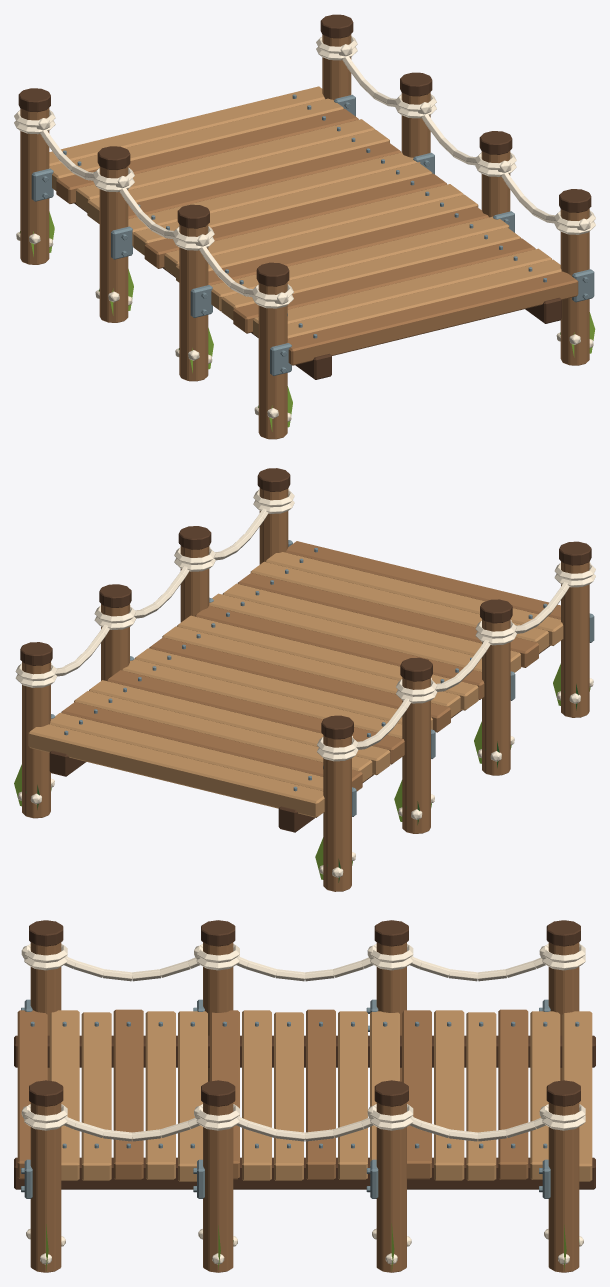
The model's file is pier.glb.
The picture shows the model from 3 angles, top to bottom: view 1: azimuth 30°, elevation 25°; view 2: azimuth 150°, elevation 25°; view 3: azimuth 270°, elevation 25°; orthographic projection. The views are drawn at different scales.
Visible parts, largest first — view 1: Deck plank 00.001, Deck plank 03.001, Deck plank 09.001, Deck plank 01.001, Deck plank 13.001, Deck plank 08.001, Deck plank 02.001, Deck plank 15.001, Deck plank 14.001, Deck plank 07.001, Deck plank 12.001, Deck plank 17.001 (+28 smaller); view 2: Deck plank 17.001, Deck plank 09.001, Deck plank 03.001, Deck plank 15.001, Deck plank 16.001, Deck plank 13.001, Deck plank 14.001, Deck plank 04.001, Pier round post.011, Deck plank 07.001, Deck plank 05.001, Deck plank 01.001 (+24 smaller); view 3: Underside longitudinal beam.003, Deck plank 03.001, Deck plank 13.001, Deck plank 15.001, Deck plank 14.001, Deck plank 04.001, Deck plank 02.001, Deck plank 09.001, Deck plank 07.001, Deck plank 08.001, Deck plank 10.001, Pier round post.012 (+24 smaller).
Boxes of the visible parts, <box> form: Deck plank 00.001: <box>287,271,578,365</box>; Deck plank 03.001: <box>233,238,535,333</box>; Deck plank 09.001: <box>144,173,446,268</box>; Deck plank 01.001: <box>287,259,561,338</box>; Deck plank 13.001: <box>87,130,389,223</box>; Deck plank 08.001: <box>164,184,463,276</box>; Deck plank 02.001: <box>253,248,551,337</box>; Deck plank 15.001: <box>56,109,358,203</box>; Deck plank 14.001: <box>76,119,375,211</box>; Deck plank 07.001: <box>176,194,478,282</box>; Deck plank 12.001: <box>128,141,401,218</box>; Deck plank 17.001: <box>49,86,324,166</box>; Deck plank 17.001: <box>28,724,324,817</box>; Deck plank 09.001: <box>149,637,450,732</box>; Deck plank 03.001: <box>237,573,538,667</box>; Deck plank 15.001: <box>61,702,362,791</box>; Deck plank 16.001: <box>50,712,323,790</box>; Deck plank 13.001: <box>89,680,390,775</box>; Deck plank 14.001: <box>74,691,372,781</box>; Deck plank 04.001: <box>222,583,520,672</box>; Pier round post.011: <box>323,735,351,891</box>; Deck plank 07.001: <box>177,615,478,710</box>; Deck plank 05.001: <box>209,593,481,671</box>; Deck plank 01.001: <box>265,552,563,645</box>; Underside longitudinal beam.003: <box>14,1157,595,1189</box>; Deck plank 03.001: <box>113,1009,143,1179</box>; Deck plank 13.001: <box>434,1010,464,1180</box>; Deck plank 15.001: <box>498,1009,528,1179</box>; Deck plank 14.001: <box>466,1012,496,1180</box>; Deck plank 04.001: <box>145,1011,175,1179</box>; Deck plank 02.001: <box>81,1012,111,1180</box>; Deck plank 09.001: <box>306,1009,335,1179</box>; Deck plank 07.001: <box>242,1010,271,1180</box>; Deck plank 08.001: <box>274,1012,303,1180</box>; Deck plank 10.001: <box>338,1011,367,1179</box>; Pier round post.012: <box>30,1102,61,1272</box>.
Bounding box in the file's own units: 3.21 × 1.48 × 4.36.
